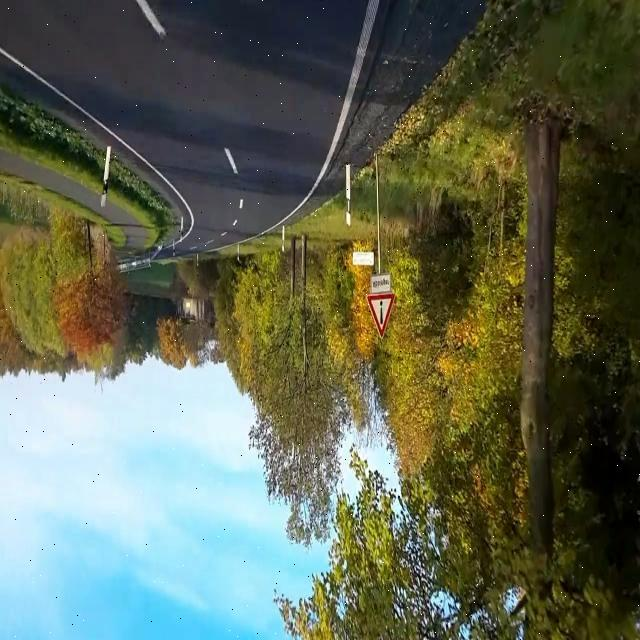lane: (1, 47, 195, 241), (257, 1, 380, 236), (136, 1, 166, 38), (224, 148, 237, 174)
road: (0, 1, 367, 254)
